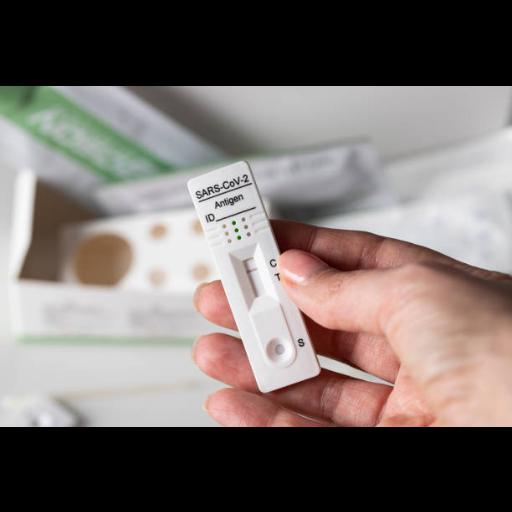Neg: (187, 159, 323, 395)
